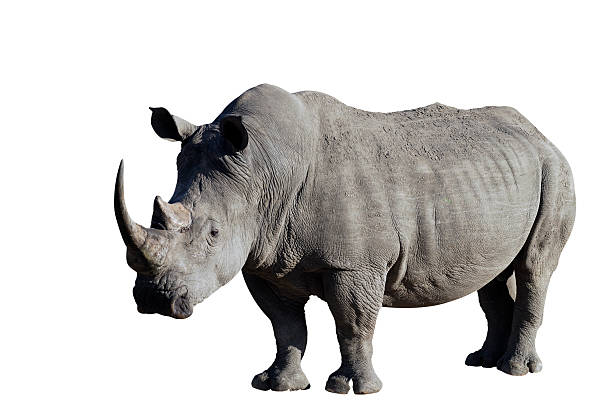rhino: (65, 99, 277, 340)
